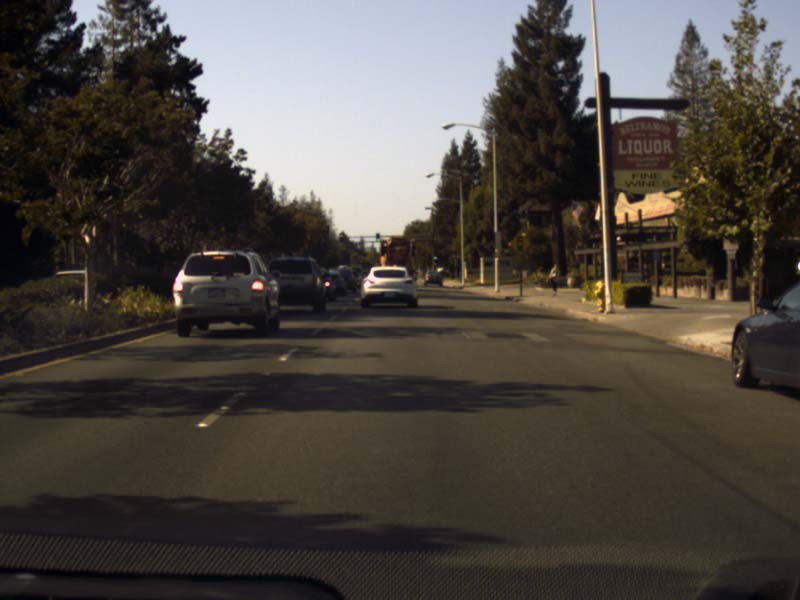Green: (432, 250, 437, 261), (375, 233, 379, 243)
Red: (339, 232, 343, 242)
